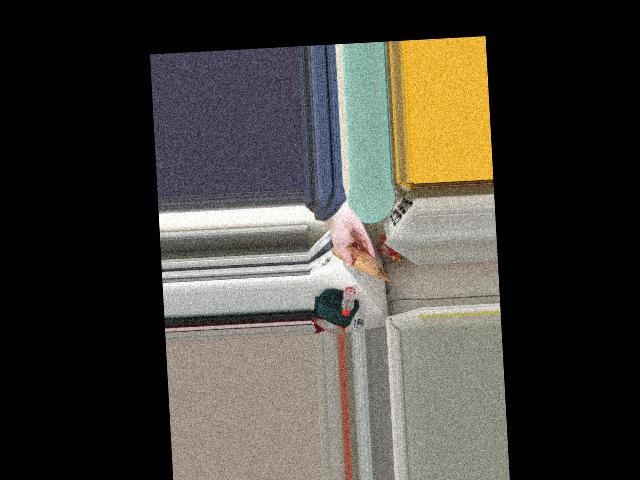sweet_potato: (341, 244, 374, 277)
